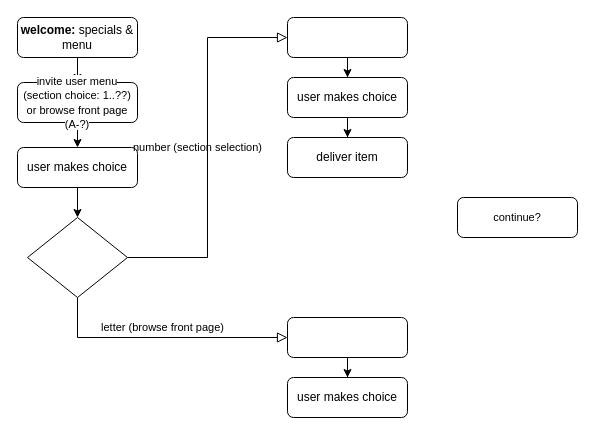
Some shapes in this 595 by 435 pixel diagram are drawn without their labels. Each missing label, with the centre of its shape:
display front page items: point (347, 337)
list section front page items: point (347, 37)
number or letter?: point (77, 257)
